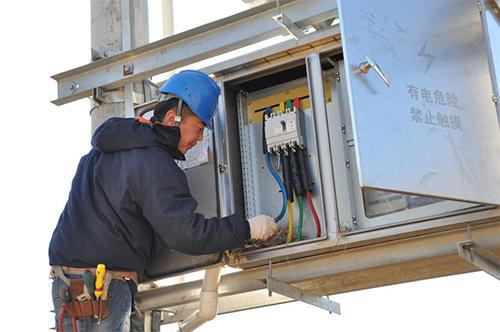helmet: (153, 64, 228, 146)
